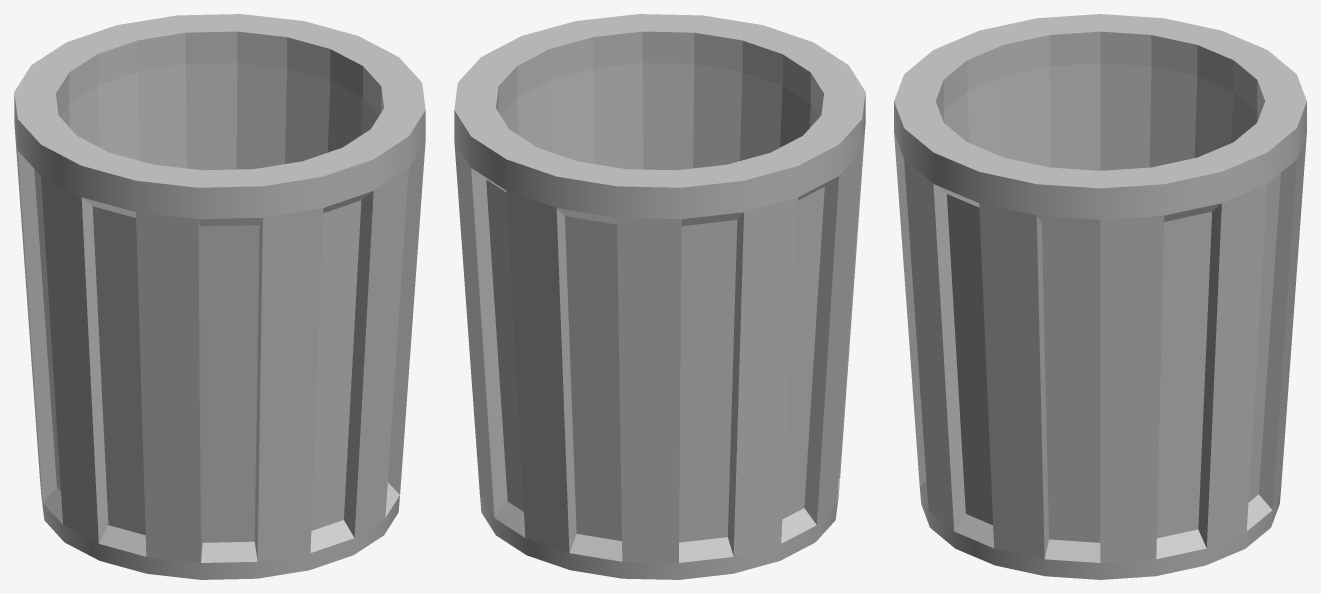
File: Bin.fbx
3 views of the same model, side by side, from view 1: azimuth 30°, elevation 25°; view 2: azimuth 150°, elevation 25°; view 3: azimuth 270°, elevation 25° (orthographic).
Parts seen in each view (by area): view 1: polySurface271; view 2: polySurface271; view 3: polySurface271.
Boxes of the visible parts, x1,y1,x2,y2 form: polySurface271: [14, 14, 425, 579]; polySurface271: [454, 14, 865, 579]; polySurface271: [894, 14, 1306, 579].
Bounding box in the file's own units: 78.19 × 84.21 × 78.19.
